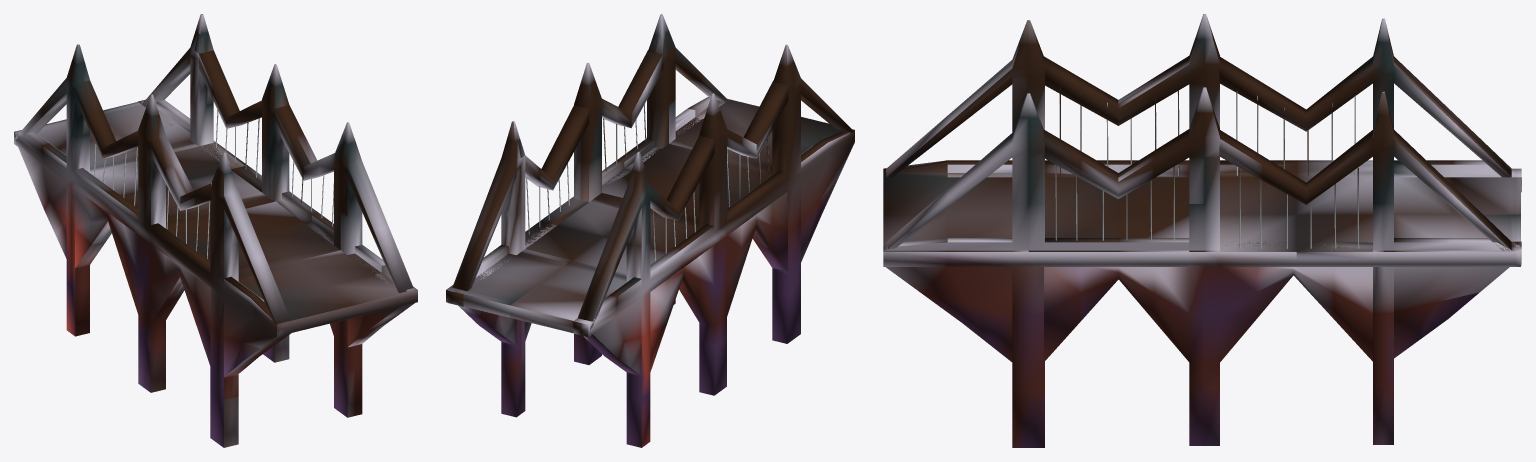
File: Мост.fbx
The picture shows the model from 3 angles, left to right: view 1: azimuth 30°, elevation 25°; view 2: azimuth 150°, elevation 25°; view 3: azimuth 270°, elevation 25°; orthographic projection. The views are drawn at different scales.
Visible parts, largest first — view 1: Cube; view 2: Cube; view 3: Cube.
Boxes of the visible parts, left/top/right/bottom form: Cube: left=14, top=14, right=417, bottom=447; Cube: left=446, top=14, right=854, bottom=447; Cube: left=883, top=14, right=1521, bottom=447.
Size of the model in its own units: 847 by 1685 by 2738.
